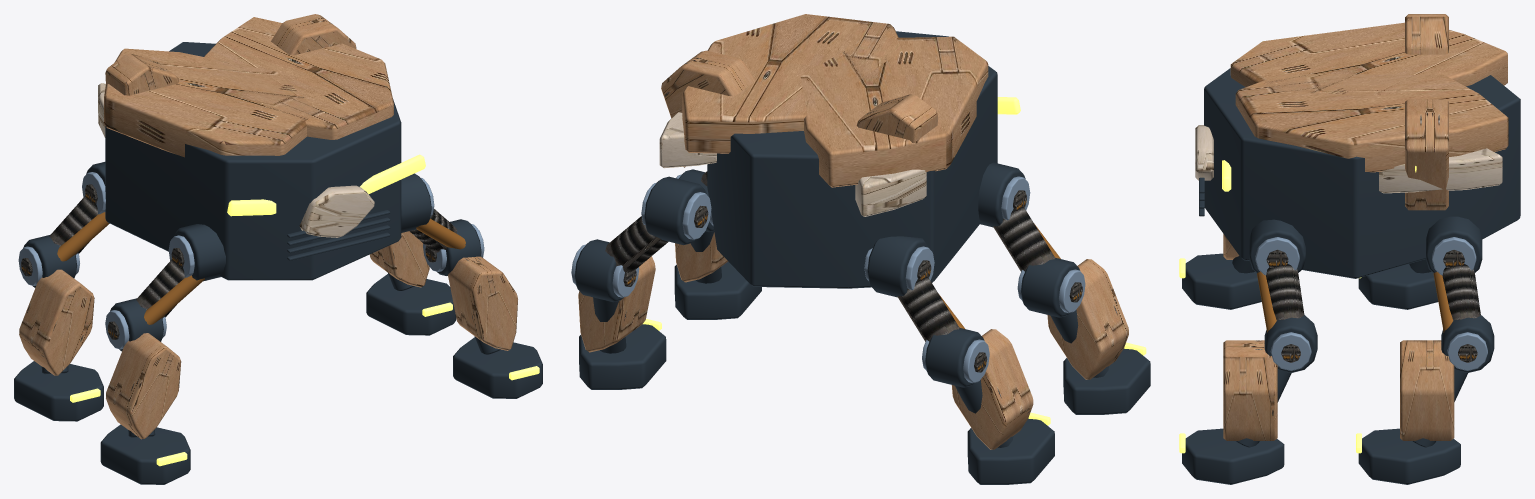
File: quad.glb
3 views of the same model, side by side, from view 1: azimuth 30°, elevation 25°; view 2: azimuth 150°, elevation 25°; view 3: azimuth 270°, elevation 25° (orthographic). The views are drawn at different scales.
Visible parts, largest first — view 1: Sloped crawler body, Layered beetle carapace, Servo housing.002, Servo housing.006, Swept crawler greave, Swept crawler greave.001, Servo housing, Swept crawler greave.003, Servo housing.004, Swept cobalt shell, Swept crawler greave.002, Crawler eye (+9 smaller); view 2: Layered beetle carapace, Sloped crawler body, Servo housing, Servo housing.004, Servo housing.002, Swept crawler greave, Swept crawler greave.001, Servo housing.006, Swept cobalt shell, Swept crawler greave.002, Hub.004, Hub (+5 smaller); view 3: Layered beetle carapace, Sloped crawler body, Servo housing.004, Servo housing.006, Swept crawler greave.003, Swept crawler greave.002, Swept cobalt shell, Servo housing.002, Servo housing, Hub.012, Hub.008, Bearing ring.012 (+3 smaller).
Part boxes in pixels (x1,y1,x2,y2): Sloped crawler body: [105, 42, 401, 280]; Layered beetle carapace: [104, 14, 393, 157]; Servo housing.002: [100, 224, 225, 484]; Servo housing.006: [401, 173, 542, 398]; Swept crawler greave: [19, 269, 94, 375]; Swept crawler greave.001: [106, 333, 181, 439]; Servo housing: [14, 162, 105, 421]; Swept crawler greave.003: [448, 256, 517, 350]; Servo housing.004: [366, 273, 456, 335]; Swept cobalt shell: [98, 83, 374, 237]; Swept crawler greave.002: [369, 231, 429, 287]; Crawler eye: [227, 154, 425, 216]; Layered beetle carapace: [661, 14, 988, 187]; Sloped crawler body: [707, 31, 997, 288]; Servo housing: [867, 236, 1054, 484]; Servo housing.004: [574, 176, 706, 389]; Servo housing.002: [978, 162, 1150, 414]; Swept crawler greave: [951, 329, 1033, 449]; Swept crawler greave.001: [1047, 259, 1128, 379]; Servo housing.006: [674, 169, 761, 319]; Swept cobalt shell: [659, 112, 926, 216]; Swept crawler greave.002: [578, 256, 655, 352]; Hub.004: [993, 190, 1082, 302]; Hub: [897, 260, 987, 372]; Layered beetle carapace: [1230, 14, 1508, 210]; Sloped crawler body: [1199, 68, 1520, 278]; Servo housing.004: [1358, 216, 1494, 484]; Servo housing.006: [1182, 219, 1317, 484]; Swept crawler greave.003: [1223, 340, 1277, 440]; Swept crawler greave.002: [1400, 340, 1454, 440]; Swept cobalt shell: [1195, 125, 1502, 193]; Servo housing.002: [1182, 253, 1261, 309]; Servo housing: [1358, 259, 1438, 309]; Hub.012: [1266, 249, 1304, 362]; Hub.008: [1442, 249, 1480, 362]; Bearing ring.012: [1255, 237, 1311, 370].
Size of the model in its own units: 1.46 by 1.04 by 1.
Materials: 8 (3 with a texture image).
